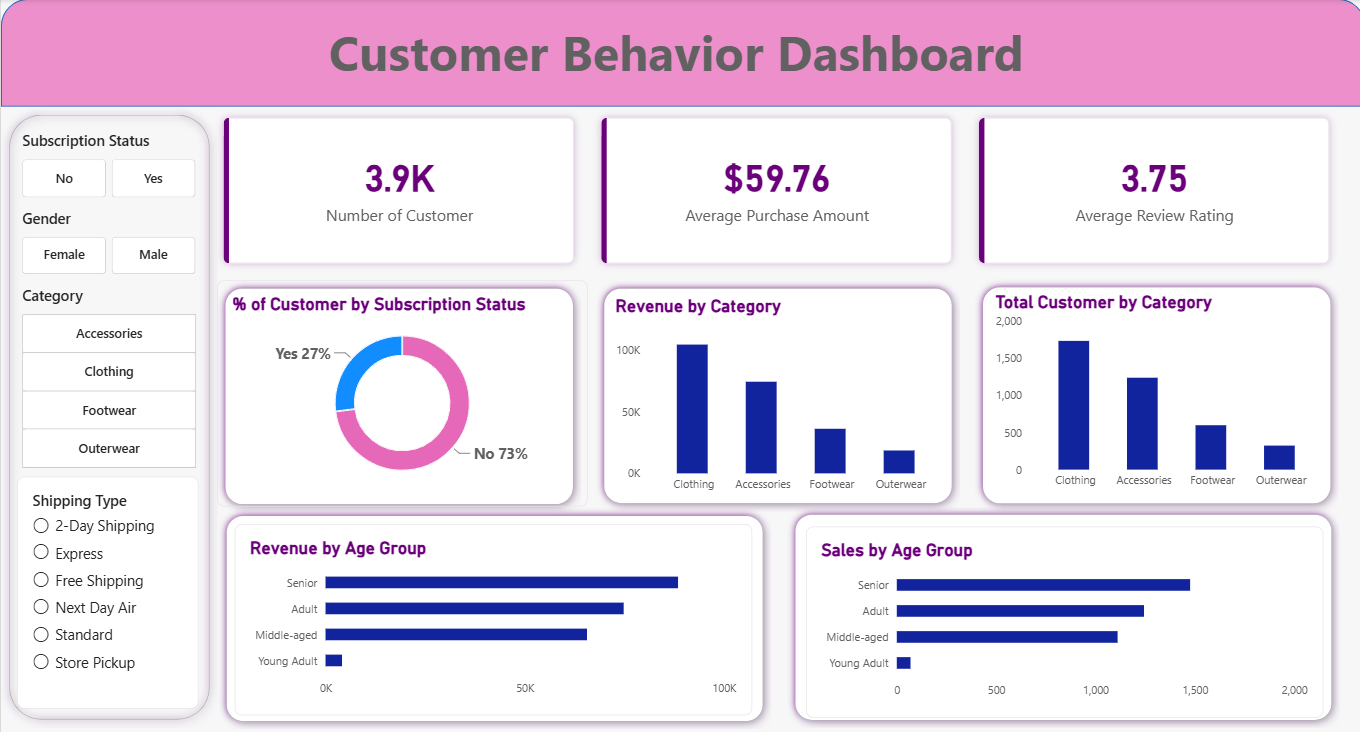

The dashboard page shown, as its layout file describes it:
{"tool":"powerbi","page":{"name":"Sales_page","canvas":[1500,820],"ordinal":0},"visuals":[{"type":"shape","box":[238.7,559.9,607.2,243.6],"z":0},{"type":"cardVisual","fields":{"Data":["public customer_data.Number of Customer","public customer_data.Average Purchase Amount","public customer_data.Average Review Rating"]},"box":[233.1,120,1238.7,182.7],"z":1000},{"type":"shape","box":[0,0,1499.7,118.4],"z":2000},{"type":"textbox","box":[0,22,1499.7,74.4],"z":3000},{"type":"shape","box":[238.3,309.7,400,255.3],"z":4000},{"type":"donutChart","title":"% of Customer by Subscription Status","fields":{"Category":["public customer_data.subscription_status"],"Y":["CountNonNull(public customer_data.customer_id)"]},"box":[238.3,309.7,407.1,248.8],"z":5000},{"type":"shape","box":[654.2,309.7,400.1,254],"z":6000},{"type":"shape","box":[1070,307.9,400.1,255.7],"z":7000},{"type":"clusteredColumnChart","title":"Revenue by Category","fields":{"Category":["public customer_data.category"],"Y":["Sum(public customer_data.purchase_amount)"]},"box":[659.4,311.4,394.9,250.5],"z":8000},{"type":"clusteredColumnChart","title":"Total Customer by Category","fields":{"Category":["public customer_data.category"],"Y":["CountNonNull(public customer_data.customer_id)"]},"box":[1076.9,307.9,394.9,250.5],"z":9000},{"type":"shape","box":[0,118.4,238.4,683.1],"z":10000},{"type":"advancedSlicerVisual","title":"Subscription Status","fields":{"Values":["public customer_data.subscription_status"]},"box":[23.7,143.7,191.1,74.4],"z":11000},{"type":"advancedSlicerVisual","title":"Gender","fields":{"Values":["public customer_data.gender"]},"box":[23.7,229.9,191.1,72.7],"z":12000},{"type":"advancedSlicerVisual","title":"Category","fields":{"Values":["public customer_data.category"]},"box":[23.7,314.5,191.1,204.6],"z":13000},{"type":"listSlicer","title":"Shipping Type","fields":{"Values":["public customer_data.shipping_type"]},"box":[15.4,532.3,199.5,255.3],"z":14000},{"type":"clusteredBarChart","title":"Revenue by Age Group","fields":{"Category":["public customer_data.age_group"],"Y":["Sum(public customer_data.purchase_amount)"]},"box":[257.5,577.6,568.9,210.5],"z":15500},{"type":"shape","box":[864.7,558.5,607.2,243.6],"z":15501},{"type":"clusteredBarChart","title":"Sales by Age Group","fields":{"Category":["public customer_data.age_group"],"Y":["CountNonNull(public customer_data.customer_id)"]},"box":[885.5,579.3,568.9,210.5],"z":15502}]}

Visuals, with their boxes in screenshot pixels (x1, y1, x2, y2), scaled from the page's 1500x820 canvas onto the 1360x732 screenshot:
shape: bbox=(216, 500, 767, 717)
cardVisual - public customer_data.Number of Customer x public customer_data.Average Purchase Amount: bbox=(211, 107, 1334, 270)
shape: bbox=(0, 0, 1359, 106)
textbox: bbox=(0, 20, 1359, 86)
shape: bbox=(216, 276, 579, 504)
"% of Customer by Subscription Status" donutChart: bbox=(216, 276, 585, 499)
shape: bbox=(593, 276, 956, 503)
shape: bbox=(970, 275, 1333, 503)
"Revenue by Category" clusteredColumnChart: bbox=(598, 278, 956, 502)
"Total Customer by Category" clusteredColumnChart: bbox=(976, 275, 1334, 498)
shape: bbox=(0, 106, 216, 715)
"Subscription Status" advancedSlicerVisual: bbox=(21, 128, 195, 195)
"Gender" advancedSlicerVisual: bbox=(21, 205, 195, 270)
"Category" advancedSlicerVisual: bbox=(21, 281, 195, 463)
"Shipping Type" listSlicer: bbox=(14, 475, 195, 703)
"Revenue by Age Group" clusteredBarChart: bbox=(233, 516, 749, 704)
shape: bbox=(784, 499, 1335, 716)
"Sales by Age Group" clusteredBarChart: bbox=(803, 517, 1319, 705)
